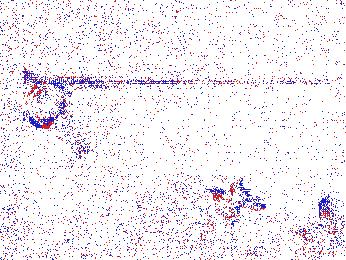flame jellyfish: (25, 83, 90, 157), (200, 176, 266, 231), (296, 196, 346, 244)
